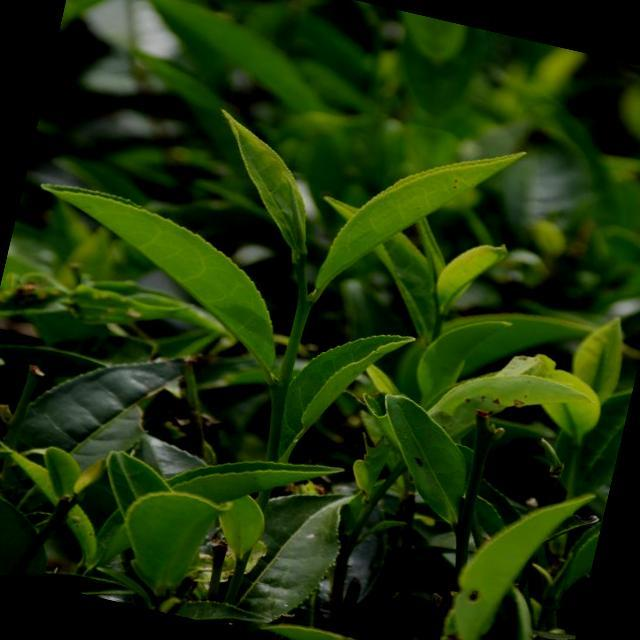Stem: (295, 302, 313, 318)
